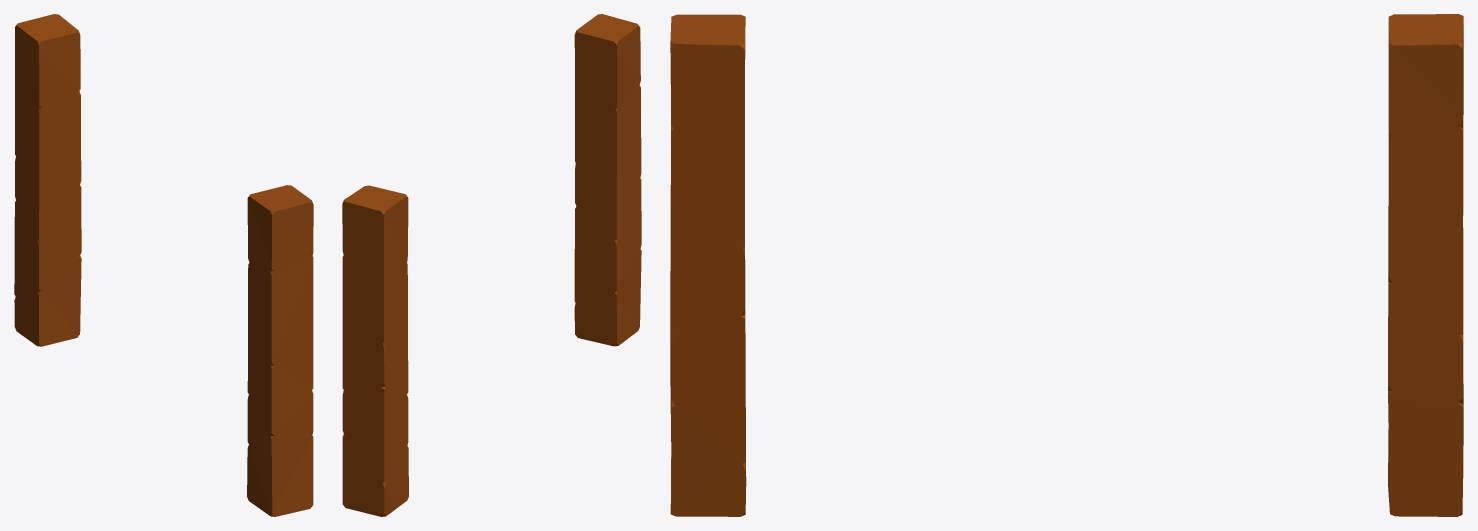
Rendered from WoodPillarDouble.fbx.
3 renders of one model, left to right at view 1: azimuth 30°, elevation 25°; view 2: azimuth 150°, elevation 25°; view 3: azimuth 270°, elevation 25°, orthographic. The views are drawn at different scales.
Visible parts, largest first — view 1: WoodPillarDouble; view 2: WoodPillarDouble; view 3: WoodPillarDouble.
Boxes of the visible parts, left/top/right/bottom form: WoodPillarDouble: left=14, top=14, right=313, bottom=516; WoodPillarDouble: left=342, top=14, right=641, bottom=516; WoodPillarDouble: left=670, top=14, right=1463, bottom=516.
Size of the model in its own units: 205 by 1405 by 2138.
